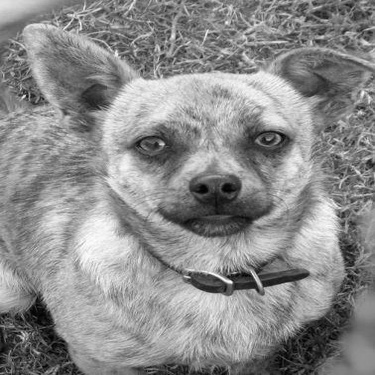dog: (1, 31, 372, 371)
